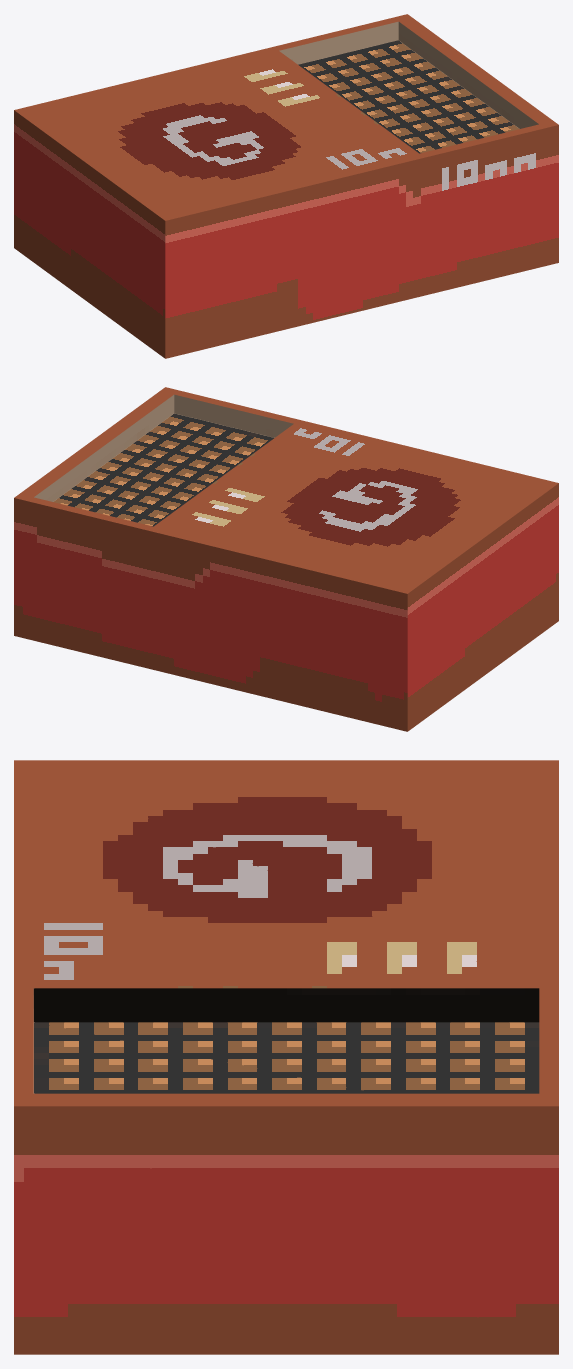
File: 10mmAmmo.glb
The picture shows the model from 3 angles, top to bottom: view 1: azimuth 30°, elevation 25°; view 2: azimuth 150°, elevation 25°; view 3: azimuth 270°, elevation 25°; orthographic projection. The views are drawn at different scales.
Parts seen in each view (by area): view 1: Cube; view 2: Cube; view 3: Cube.
Boxes of the visible parts, x1,y1,x2,y2 form: Cube: (14,14,558,358); Cube: (14,387,558,731); Cube: (14,760,558,1354).
Bounding box in the file's own units: 2 × 0.67 × 1.33.
1 material, 1 textured.
